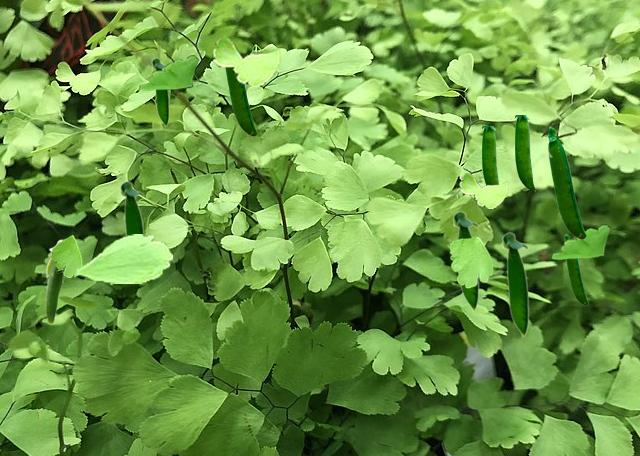pea: (547, 126, 585, 238), (501, 231, 528, 338), (452, 210, 478, 312), (224, 68, 256, 135), (45, 239, 65, 323), (564, 234, 587, 304), (515, 115, 534, 190), (119, 180, 144, 235), (151, 57, 168, 127), (482, 126, 499, 184)
